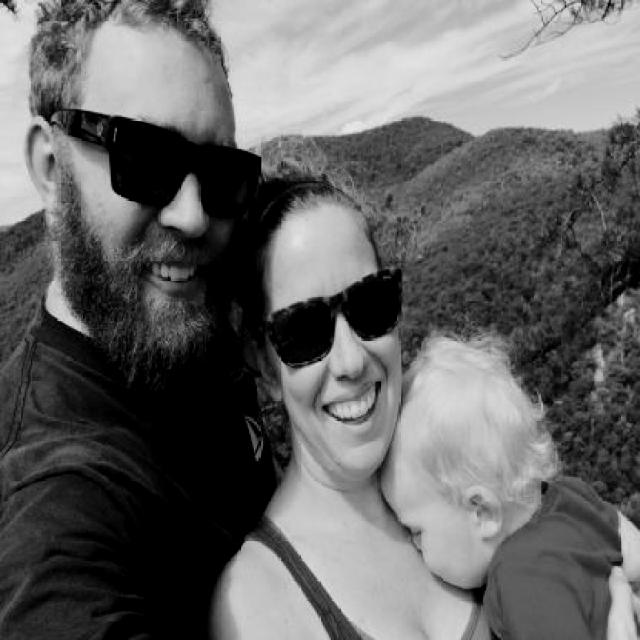face_nomask: (83, 107, 255, 308), (282, 274, 396, 434)
glasses: (48, 105, 264, 227), (265, 262, 403, 368)
head_nohelmet: (32, 0, 232, 86), (226, 165, 374, 264), (382, 338, 504, 445)
person: (0, 0, 257, 640), (200, 149, 489, 640)
